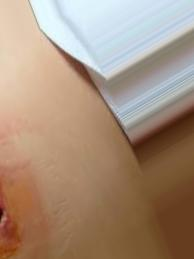Spider: (0, 174, 39, 258)
